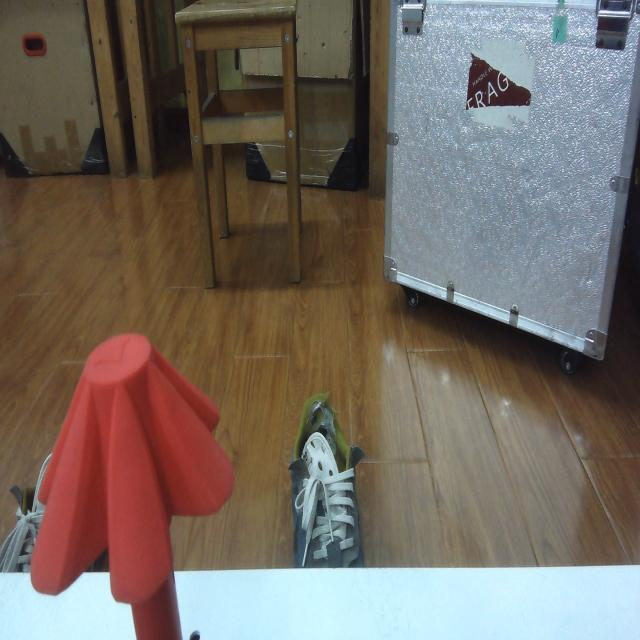zred-Stake-Head: (31, 334, 235, 603)
